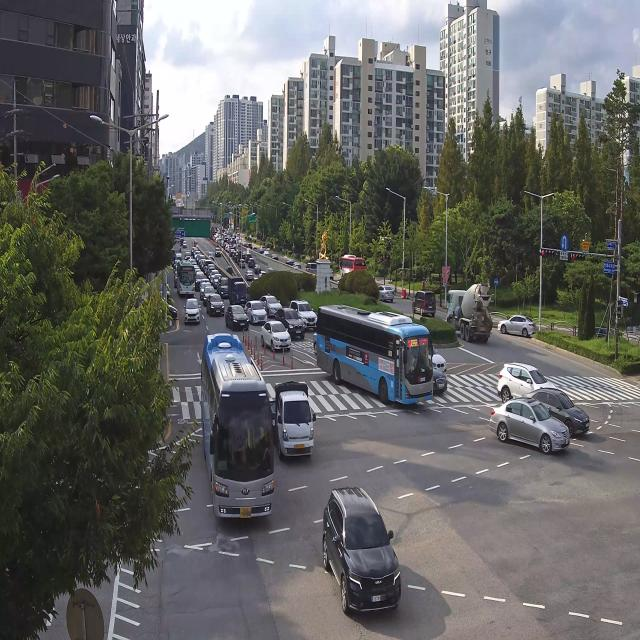Bus: (309, 296, 441, 422), (198, 328, 278, 532), (332, 247, 370, 280), (173, 254, 199, 301)
Car: (316, 486, 407, 630), (480, 385, 578, 465), (523, 372, 598, 443), (494, 307, 544, 347), (256, 312, 293, 359), (276, 304, 306, 345), (410, 283, 437, 321), (222, 298, 251, 333), (292, 293, 318, 332), (206, 286, 232, 320), (432, 338, 452, 372), (246, 296, 267, 326), (184, 295, 201, 332), (431, 366, 452, 395), (261, 291, 282, 318), (376, 279, 394, 304), (218, 277, 230, 300), (202, 286, 215, 307), (306, 259, 318, 278), (200, 281, 209, 299), (328, 265, 337, 282), (284, 256, 294, 270), (213, 273, 222, 288), (292, 260, 302, 272), (211, 268, 218, 285), (246, 270, 254, 284), (226, 265, 235, 276), (272, 250, 280, 262), (215, 245, 222, 258), (259, 242, 266, 254), (239, 258, 246, 269), (254, 263, 261, 273), (248, 258, 254, 268), (259, 270, 266, 278), (264, 249, 270, 258)
Truck: (270, 379, 319, 468), (439, 274, 496, 346), (227, 274, 248, 308)
